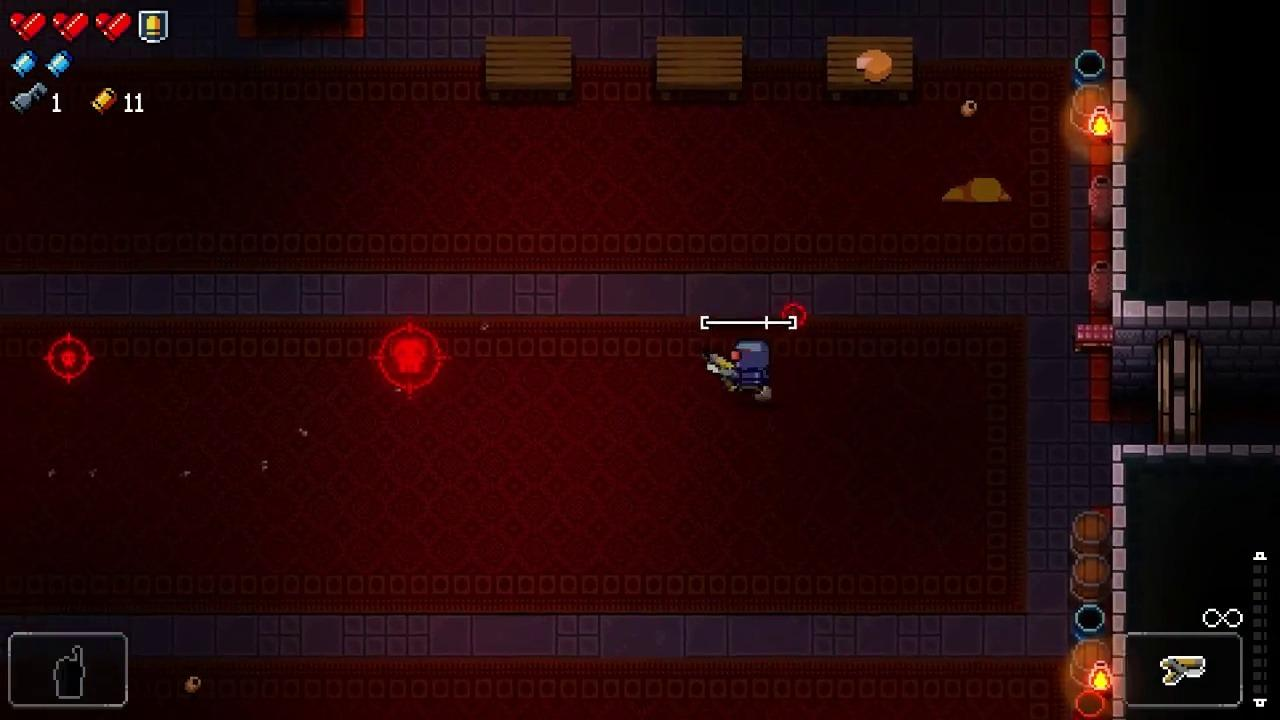dead_apprentice_gunjurer: (941, 177, 1012, 202)
enemy_spawn: (371, 320, 446, 395), (42, 331, 95, 385)
locked_door: (1157, 331, 1202, 444)
player: (732, 340, 770, 393)
table: (486, 35, 571, 100), (656, 36, 741, 100), (828, 37, 913, 101)
